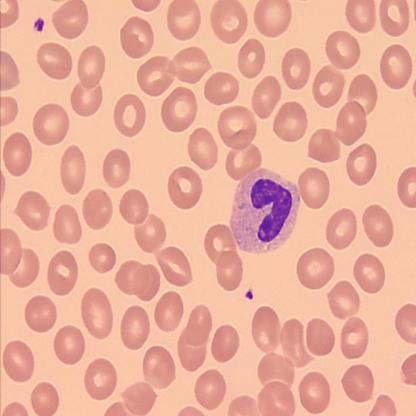Band Neutrophil: (227, 165, 302, 255)
